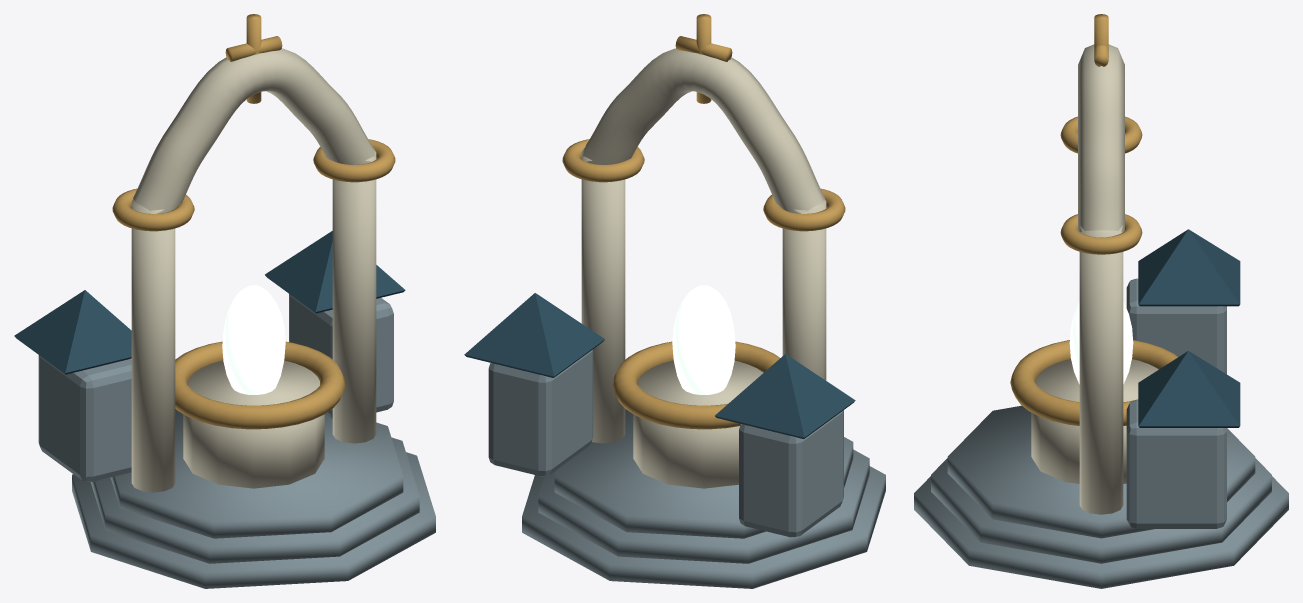
File: sanctuary-2.glb
3 renders of one model, left to right at view 1: azimuth 30°, elevation 25°; view 2: azimuth 150°, elevation 25°; view 3: azimuth 270°, elevation 25°, orthographic.
Parts seen in each view (by area): view 1: Foundation_Carved blue limestone.004, Foundation_Ivory carving.004, Foundation_Aged brass.004, Foundation_Royal blue enamel.004, Core_Dawn light.001; view 2: Foundation_Carved blue limestone.004, Foundation_Ivory carving.004, Foundation_Royal blue enamel.004, Foundation_Aged brass.004, Core_Dawn light.001; view 3: Foundation_Carved blue limestone.004, Foundation_Ivory carving.004, Foundation_Royal blue enamel.004, Foundation_Aged brass.004, Core_Dawn light.001.
Boxes of the visible parts, bbox=[...] form: Foundation_Carved blue limestone.004: bbox=[38, 294, 435, 588]; Foundation_Ivory carving.004: bbox=[131, 48, 376, 492]; Foundation_Aged brass.004: bbox=[112, 14, 395, 429]; Foundation_Royal blue enamel.004: bbox=[14, 231, 405, 374]; Core_Dawn light.001: bbox=[222, 285, 285, 394]; Foundation_Carved blue limestone.004: bbox=[488, 349, 885, 588]; Foundation_Ivory carving.004: bbox=[581, 48, 826, 488]; Foundation_Royal blue enamel.004: bbox=[464, 293, 855, 438]; Foundation_Aged brass.004: bbox=[562, 14, 845, 429]; Core_Dawn light.001: bbox=[672, 285, 735, 394]; Foundation_Carved blue limestone.004: bbox=[914, 278, 1288, 588]; Foundation_Ivory carving.004: bbox=[1031, 44, 1158, 514]; Foundation_Royal blue enamel.004: bbox=[1138, 229, 1240, 427]; Foundation_Aged brass.004: bbox=[1010, 14, 1177, 425]; Core_Dawn light.001: bbox=[1069, 301, 1133, 384].
Bounding box in the file's own units: 2.34 × 3.25 × 2.24.
